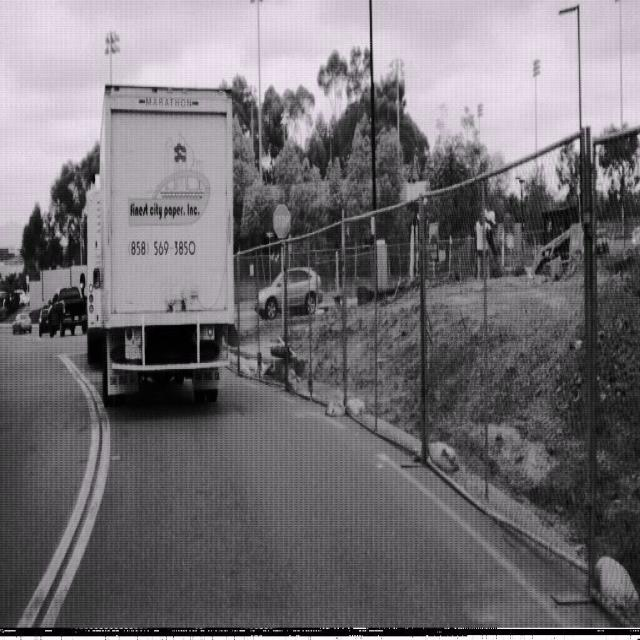stop_sign: (272, 202, 292, 239)
